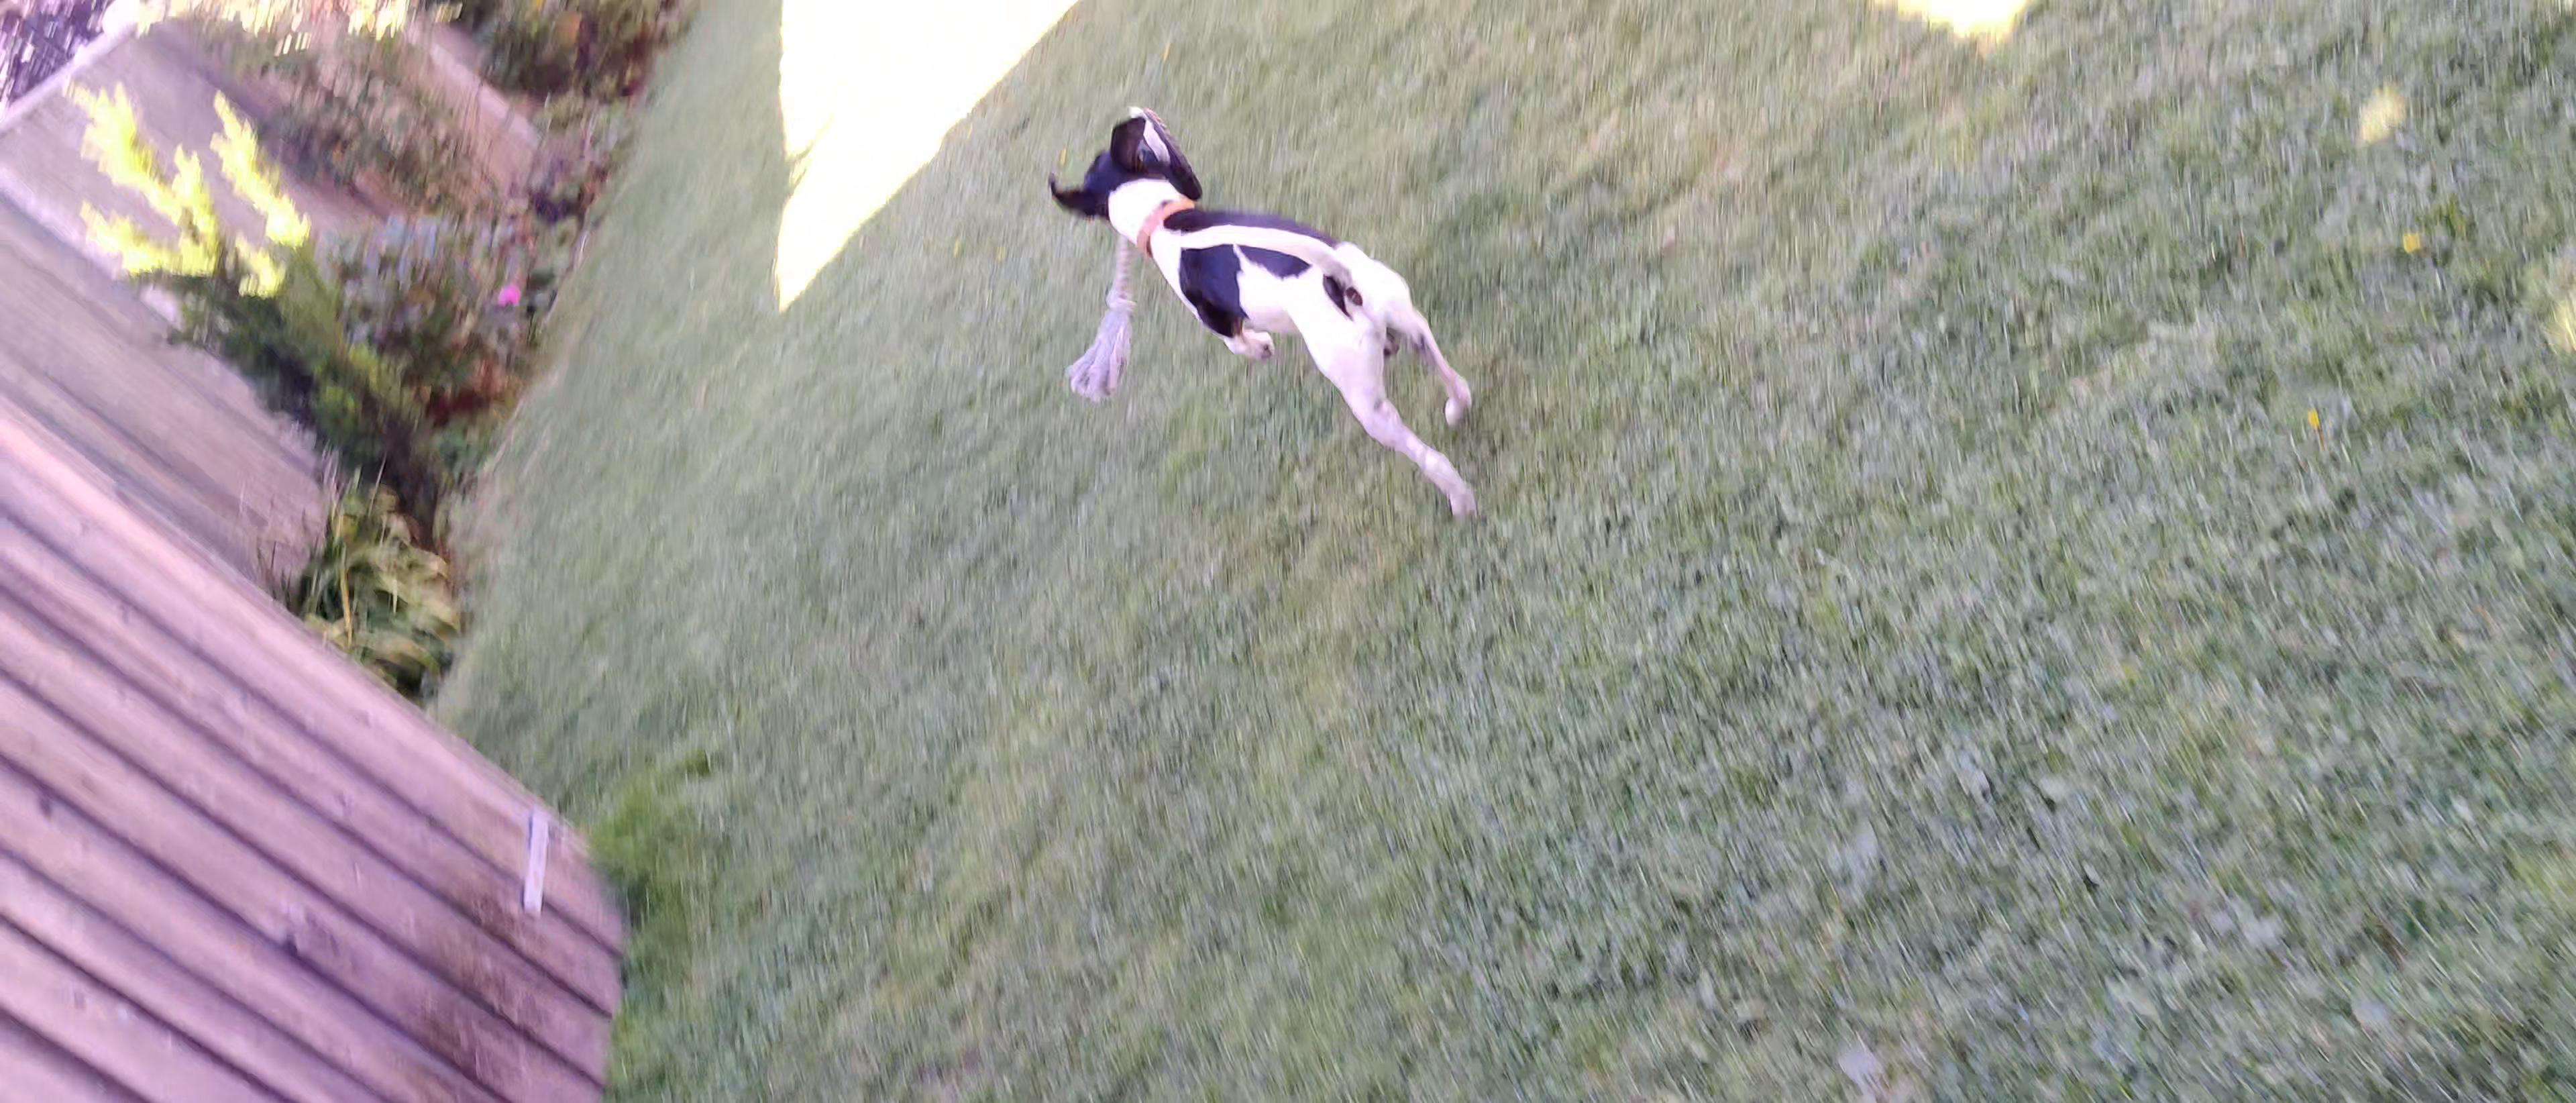Dog: (1037, 102, 1505, 533)
